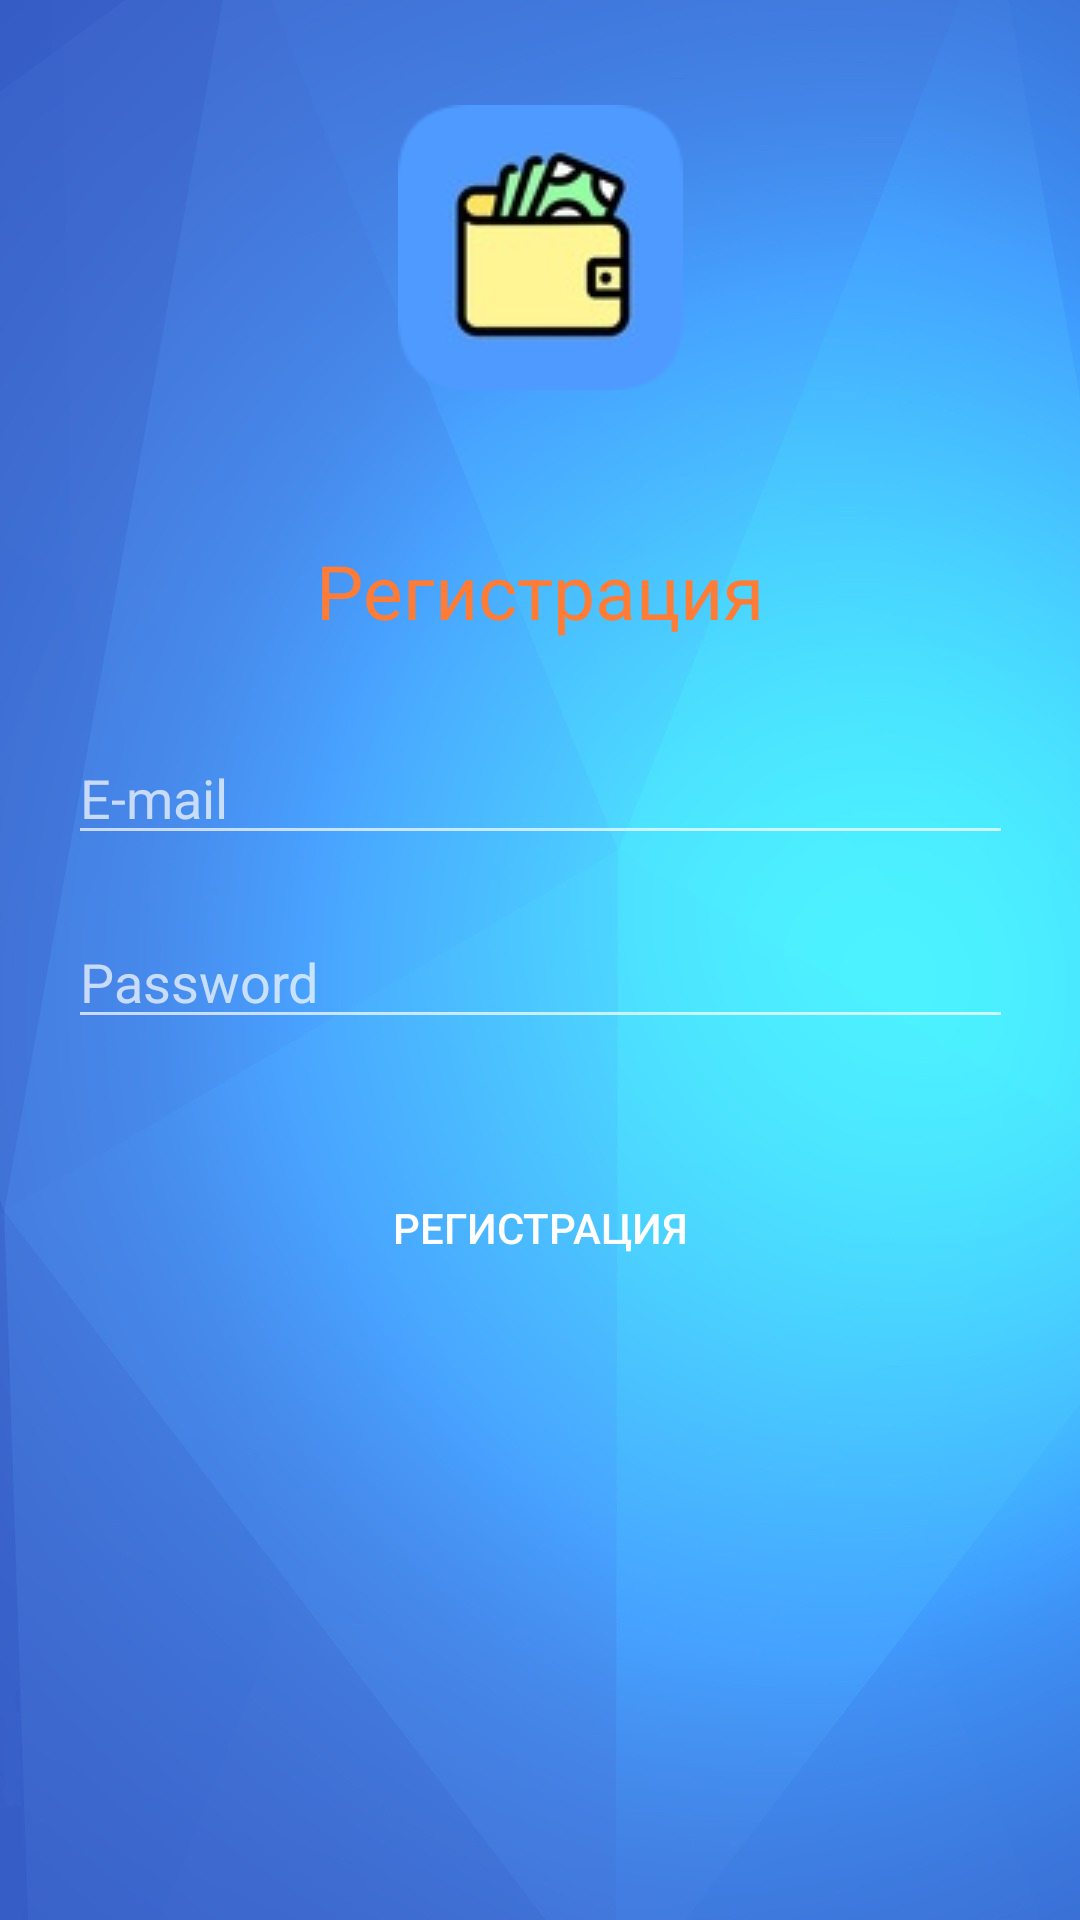

Icon bounding boxes for this 1080×1920 phone screenshot, format bbox=[x1, y1, x2, y2]:
app: bbox=[398, 105, 683, 390]
